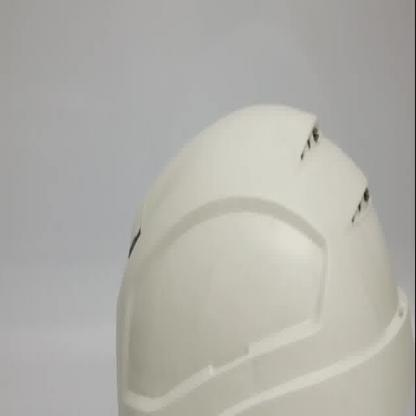helmet: (115, 99, 415, 415)
